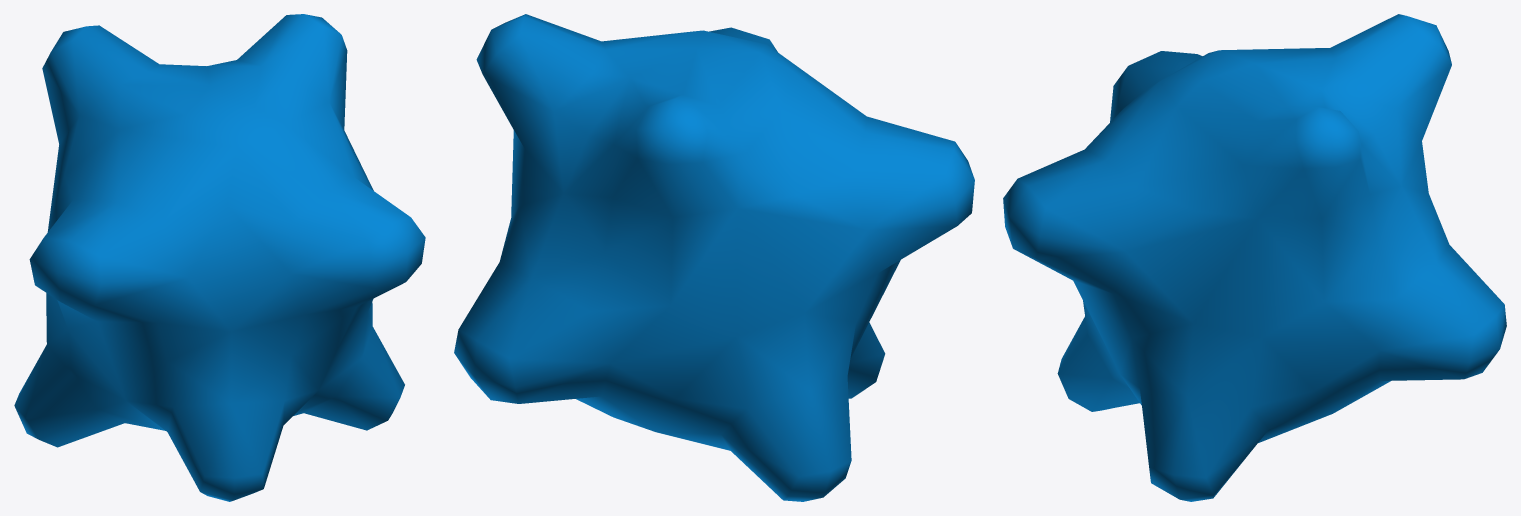
The model's file is monster1.fbx.
3 renders of one model, left to right at view 1: azimuth 30°, elevation 25°; view 2: azimuth 150°, elevation 25°; view 3: azimuth 270°, elevation 25°, orthographic. The views are drawn at different scales.
Visible parts, largest first — view 1: monster1; view 2: monster1; view 3: monster1.
Boxes of the visible parts, box(x1,y1,x2,y2) form: monster1: box(14, 14, 425, 501); monster1: box(454, 14, 974, 501); monster1: box(1003, 14, 1506, 501).
Size of the model in its own units: 49.8 by 48.29 by 55.87.
